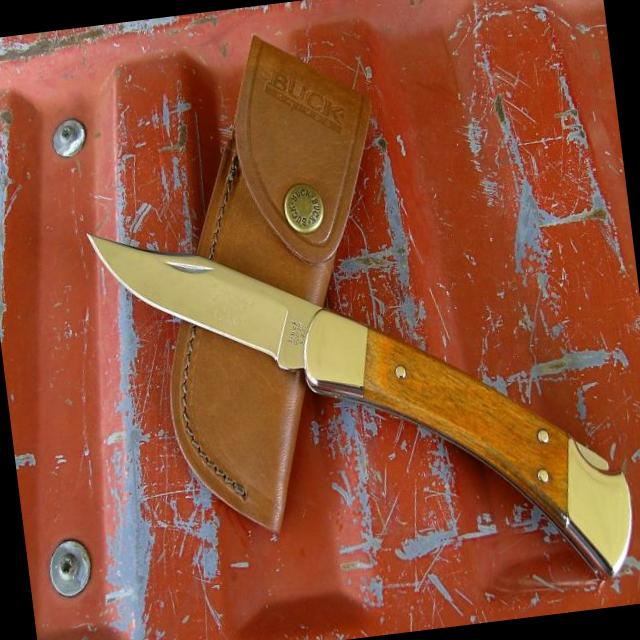Knife: (88, 235, 632, 573)
